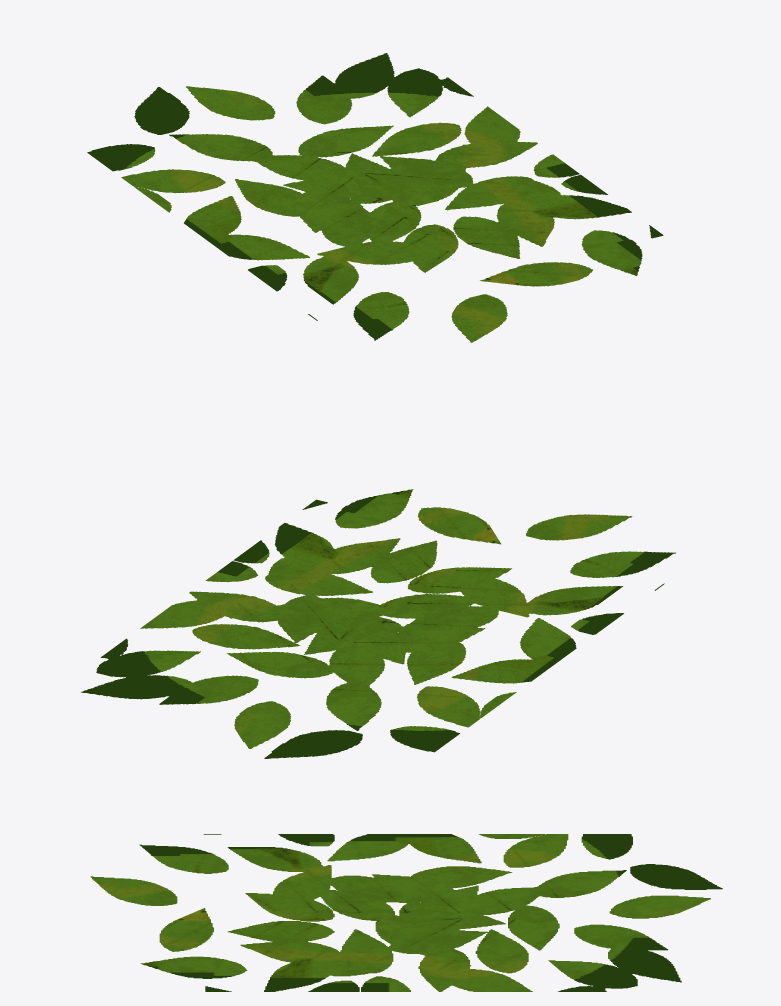
File: Folhagem_02.fbx
The picture shows the model from 3 angles, top to bottom: view 1: azimuth 30°, elevation 25°; view 2: azimuth 150°, elevation 25°; view 3: azimuth 270°, elevation 25°; orthographic projection. The views are drawn at different scales.
Parts seen in each view (by area): view 1: LOWA; view 2: LOWA; view 3: LOWA.
Part boxes in pixels (box(x1,y1,x2,y2)): LOWA: box(87, 53, 663, 342); LOWA: box(81, 489, 675, 758); LOWA: box(90, 834, 722, 991).
Bounding box in the file's own units: 2.1 × 0 × 4.24.
